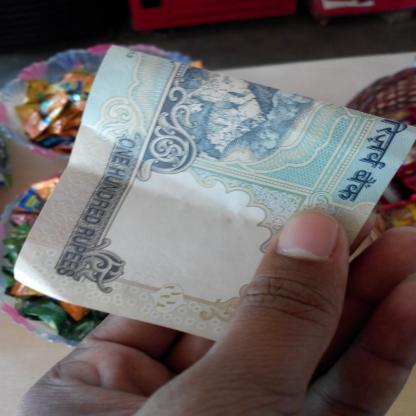Old100Back: (10, 43, 416, 342)
